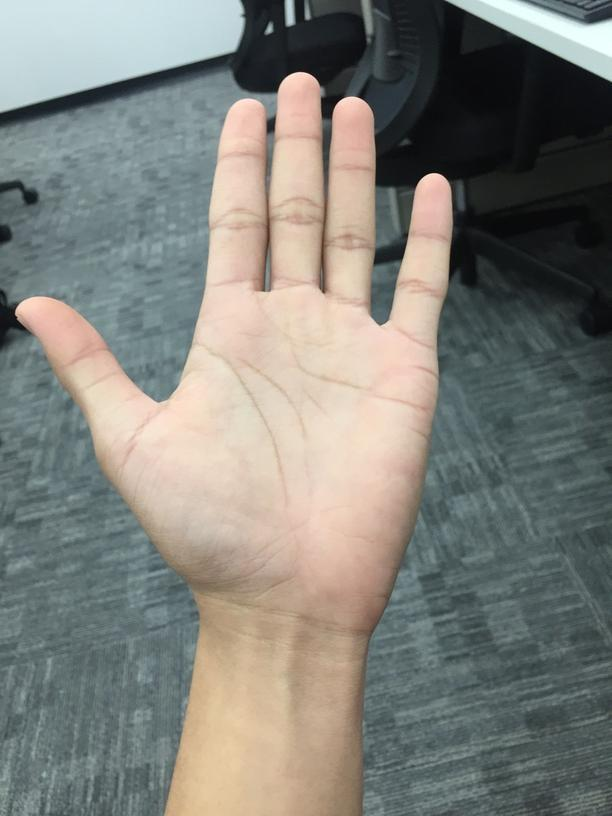hand: (17, 73, 455, 660)
